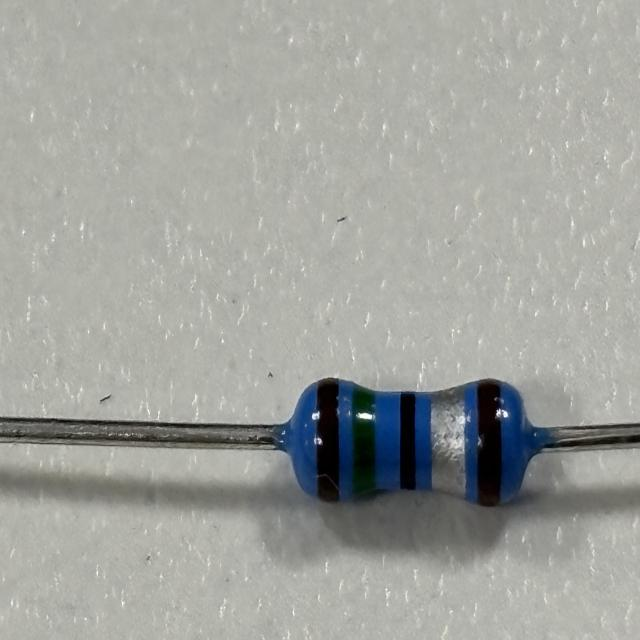resistor: (296, 374, 524, 511)
